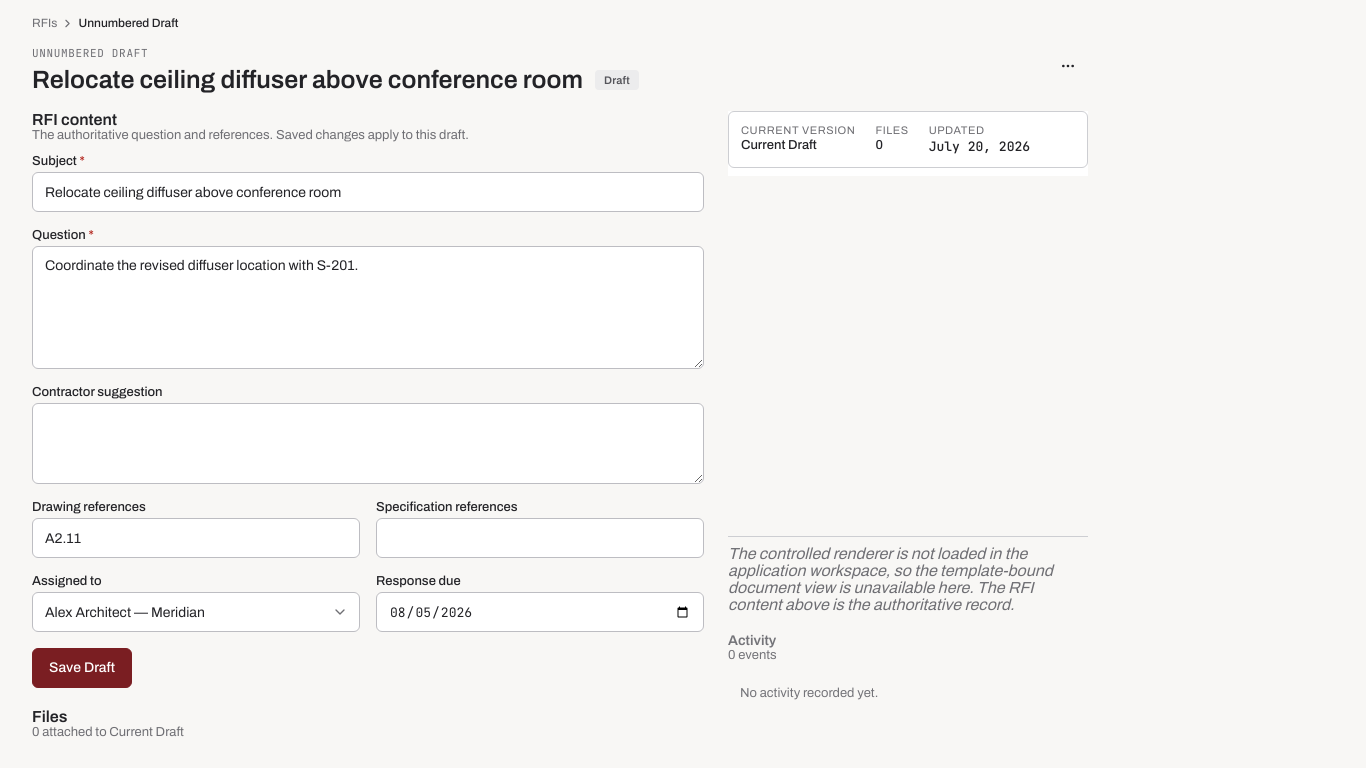
Test case: RFI workspace — content and concurrency › blocks an empty subject or question client-side without a request
Expected: the header with class "base-workspace__identity" is shown, [32,46,1088,95]
Clear the field labelled "Subject *" at (368, 192), box [32,172,704,212]
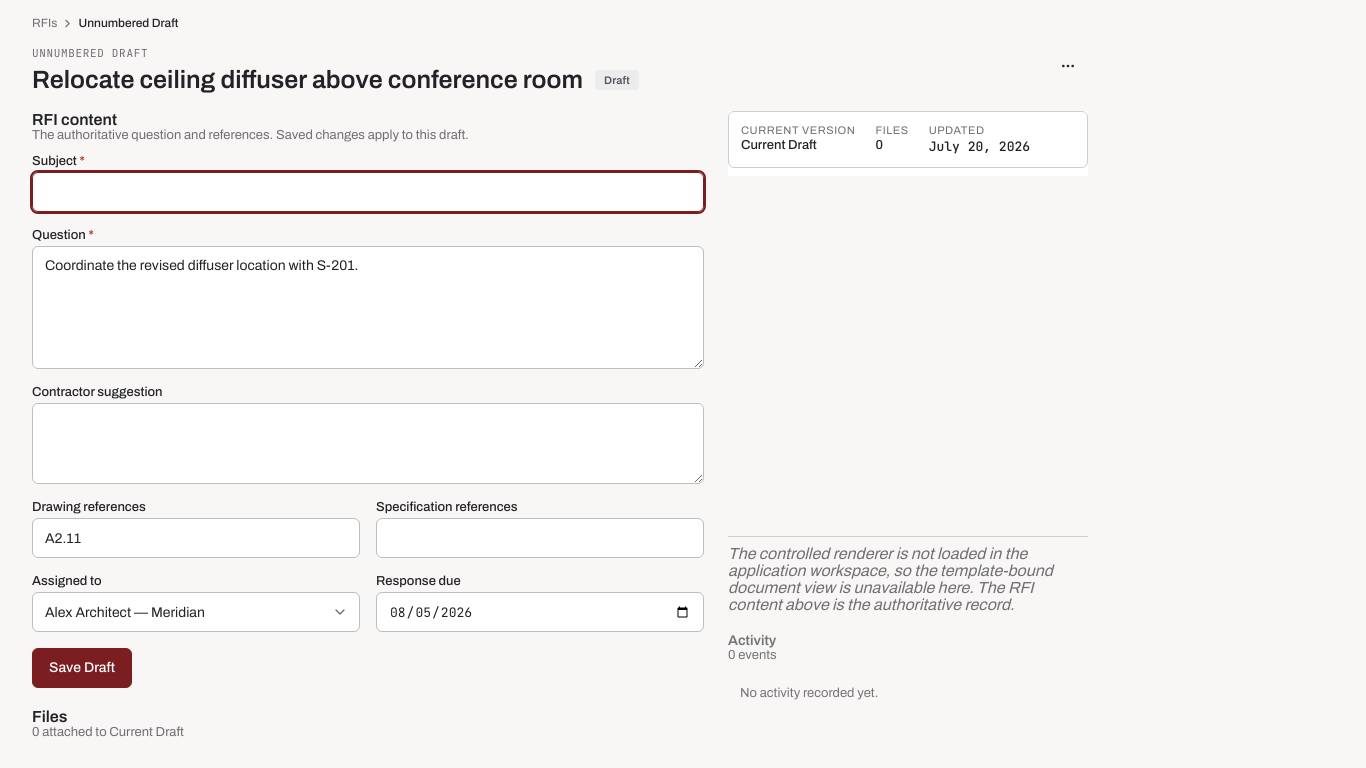
Click the button "Save draft".
click(82, 668)  # box [32,648,132,688]
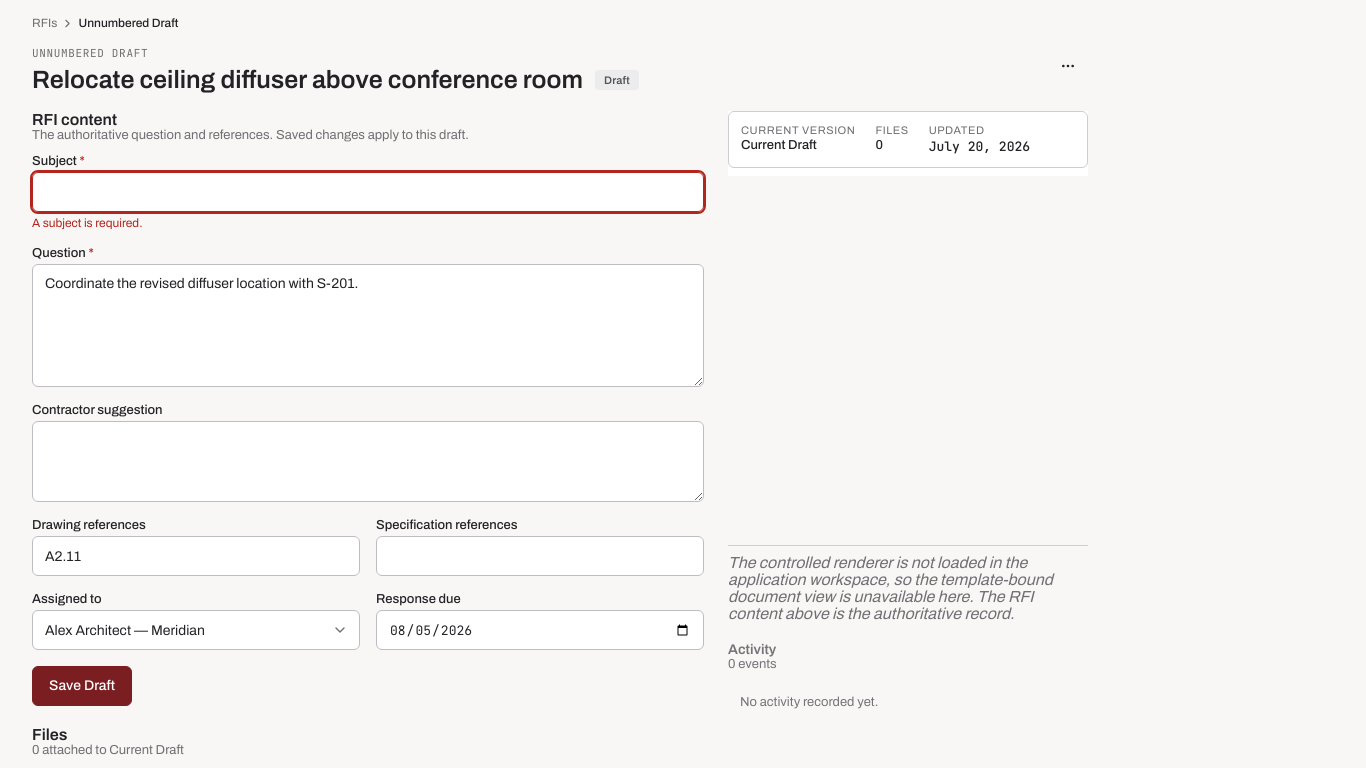
Result: the text "A subject is required." is shown at [32,216,142,230]
